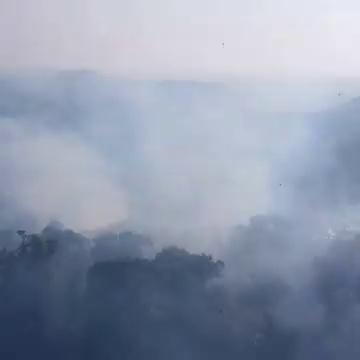smoke: (155, 154, 253, 224)
